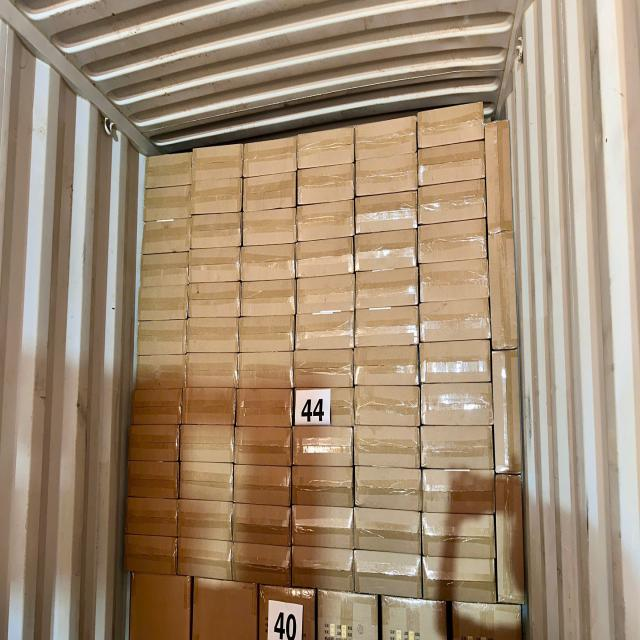Carton: (490, 348, 526, 476), (494, 472, 528, 604), (129, 571, 190, 640), (193, 577, 259, 640), (488, 232, 520, 350), (483, 120, 515, 232), (420, 423, 496, 470), (422, 510, 496, 558), (418, 138, 488, 188), (355, 551, 423, 602), (422, 468, 496, 514), (423, 556, 497, 601), (419, 339, 492, 384), (420, 383, 496, 426), (417, 102, 485, 150), (418, 179, 488, 225), (259, 584, 316, 640), (354, 508, 422, 554), (418, 218, 489, 262), (418, 300, 492, 342), (381, 595, 449, 640), (353, 383, 422, 427), (420, 260, 492, 302), (291, 545, 355, 592), (317, 591, 378, 640), (354, 466, 422, 508), (232, 463, 294, 509), (354, 427, 421, 469), (354, 305, 420, 347), (354, 188, 418, 231), (453, 601, 523, 640), (355, 228, 419, 270), (353, 346, 420, 386), (236, 383, 294, 429), (354, 268, 420, 308), (231, 540, 289, 585), (292, 466, 354, 508), (232, 426, 294, 468), (232, 503, 292, 546), (241, 202, 297, 248), (293, 507, 355, 548), (179, 457, 235, 502), (293, 388, 355, 428), (296, 127, 355, 169), (178, 494, 233, 539), (177, 532, 233, 576), (294, 428, 355, 468), (355, 158, 419, 196), (240, 240, 298, 281), (124, 494, 178, 538), (296, 272, 356, 311), (127, 423, 181, 466), (238, 312, 296, 352), (123, 532, 178, 574), (179, 421, 235, 462), (295, 351, 355, 389), (295, 311, 355, 349), (296, 201, 356, 239), (297, 237, 355, 276), (295, 166, 355, 203), (238, 349, 296, 387), (181, 384, 237, 423), (125, 460, 182, 498), (185, 316, 241, 354), (356, 116, 418, 150), (241, 278, 297, 315), (242, 174, 296, 212), (244, 138, 298, 175), (146, 148, 192, 191), (192, 177, 244, 215), (193, 142, 244, 180), (182, 352, 240, 385), (188, 283, 242, 317), (189, 248, 241, 283), (139, 250, 191, 285), (138, 283, 188, 319), (136, 318, 186, 354), (132, 389, 182, 425), (189, 214, 243, 247), (136, 351, 184, 388), (143, 184, 191, 219), (142, 218, 192, 250)
